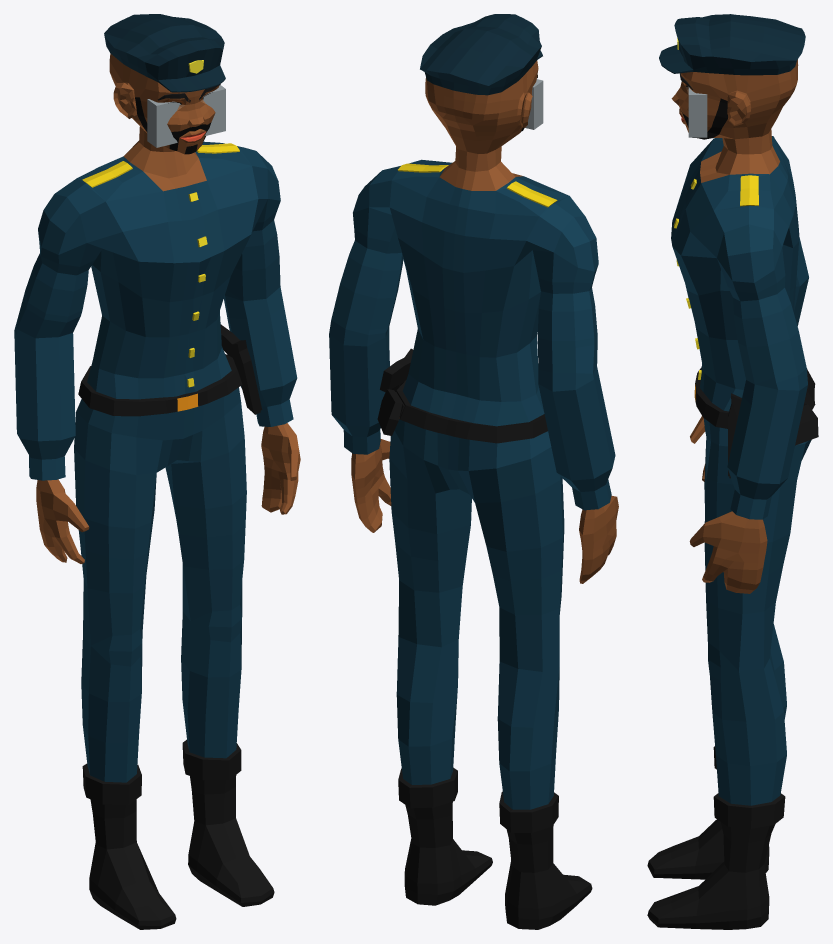
File: Police_Stand_Mask.fbx
The picture shows the model from 3 angles, left to right: view 1: azimuth 30°, elevation 25°; view 2: azimuth 150°, elevation 25°; view 3: azimuth 270°, elevation 25°; orthographic projection.
Parts seen in each view (by area): view 1: Police_Stand_Mask; view 2: Police_Stand_Mask; view 3: Police_Stand_Mask.
Boxes of the visible parts, box(x1,y1,x2,y2) form: Police_Stand_Mask: box(14, 14, 300, 929); Police_Stand_Mask: box(329, 14, 618, 929); Police_Stand_Mask: box(647, 14, 818, 929).
Bounding box in the file's own units: 0.3759 × 1.13 × 0.2.
